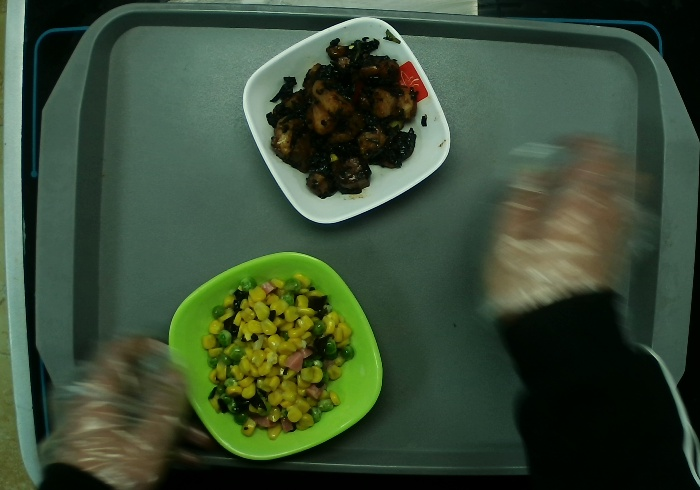SHKJ-Bai_Se_Xiao_Fang_Die: (242, 15, 450, 225)
SHKJ-Lv_Se_Cai_Die: (166, 252, 382, 464)
